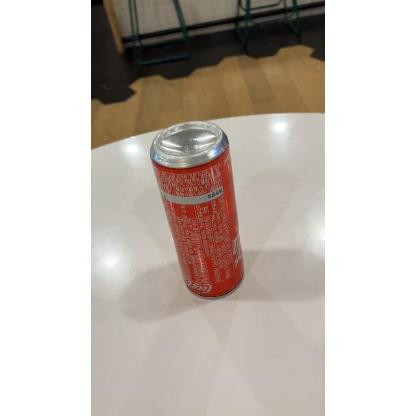Can: (151, 120, 245, 300)
